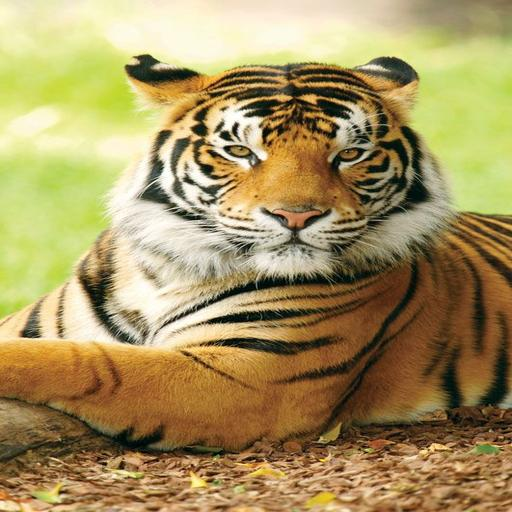Tiger: (0, 39, 512, 476)
